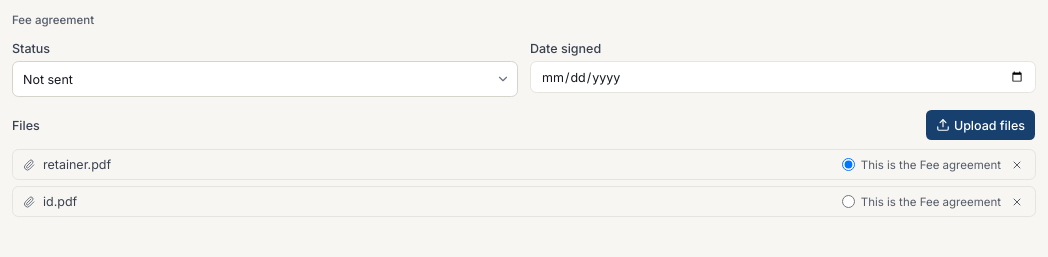
Test case: EngagementSection › marking a file that fails (rejects or ok:false) shows a small error
Step 1. Click the radio button labelled "This is the Fee agreement" in the row of "id.pdf" → click(848, 202), box [842, 195, 855, 208]
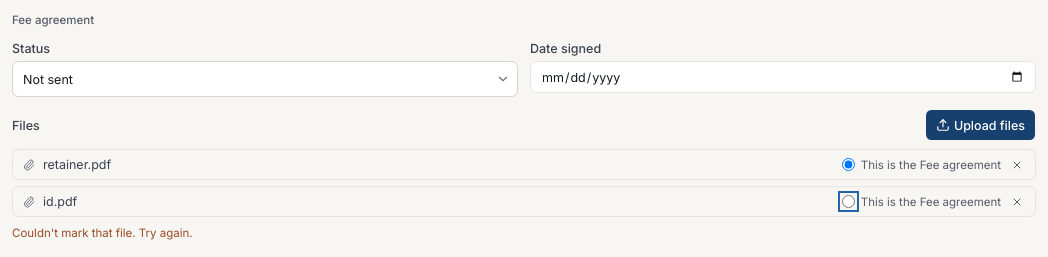
Now the text "Couldn't mark that file. Try again." is shown, box [12, 226, 193, 240]
